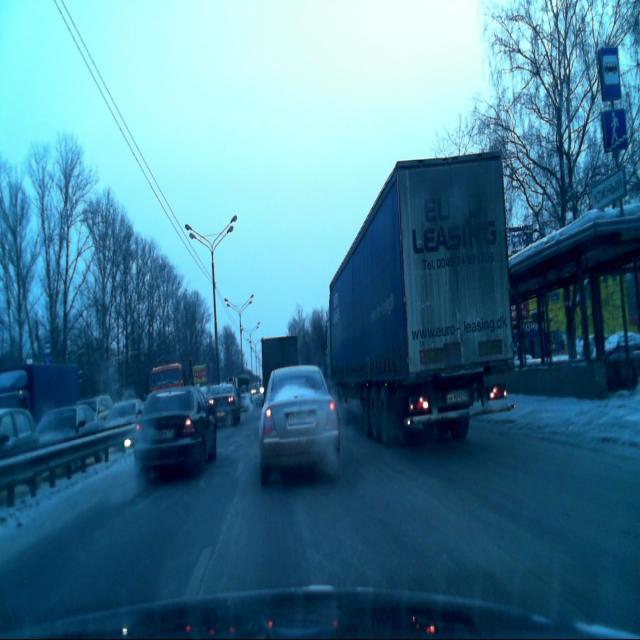road sign: (597, 47, 622, 100), (602, 108, 628, 151)
